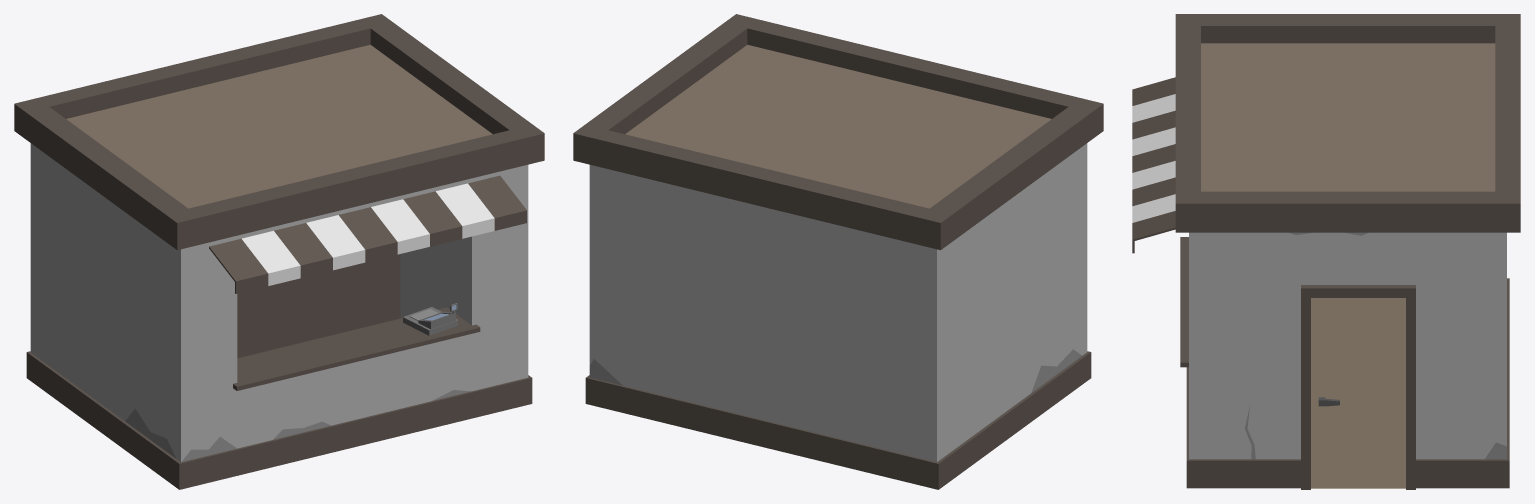
File: House_08.glb
The picture shows the model from 3 angles, left to right: view 1: azimuth 30°, elevation 25°; view 2: azimuth 150°, elevation 25°; view 3: azimuth 270°, elevation 25°; orthographic projection. The views are drawn at different scales.
Visible parts, largest first — view 1: House_08; view 2: House_08; view 3: House_08.
Boxes of the visible parts, bbox=[...] form: House_08: bbox=[14, 14, 544, 489]; House_08: bbox=[573, 14, 1103, 489]; House_08: bbox=[1132, 14, 1520, 489].
Size of the model in its own units: 4.24 by 3 by 3.66.
1 material, 1 textured.
